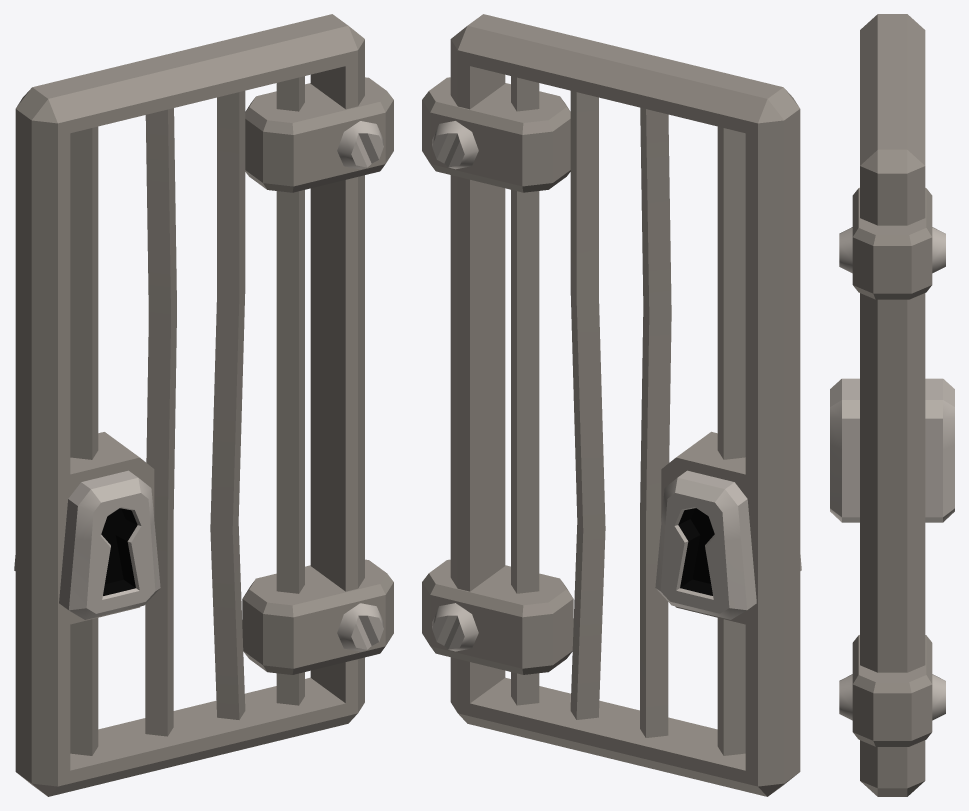
The model's file is m_dec_dung_doorGridLargeKey.fbx.
3 renders of one model, left to right at view 1: azimuth 30°, elevation 25°; view 2: azimuth 150°, elevation 25°; view 3: azimuth 270°, elevation 25°, orthographic. The views are drawn at different scales.
Visible parts, largest first — view 1: m_dec_dung_doorGridLargeKey; view 2: m_dec_dung_doorGridLargeKey; view 3: m_dec_dung_doorGridLargeKey.
Part boxes in pixels (x1,y1,x2,y2): m_dec_dung_doorGridLargeKey: [14, 14, 393, 796]; m_dec_dung_doorGridLargeKey: [422, 14, 801, 796]; m_dec_dung_doorGridLargeKey: [830, 14, 954, 796].
Bounding box in the file's own units: 2.16 × 4 × 0.6996.
